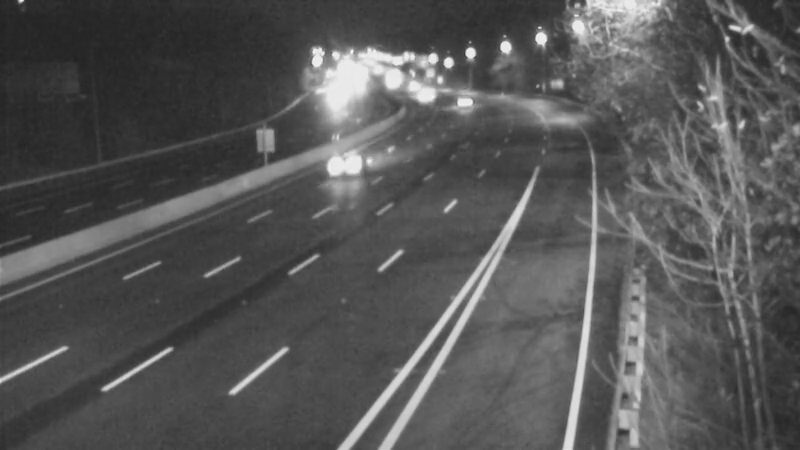vehicle: (305, 128, 385, 208), (403, 72, 453, 122), (435, 77, 485, 127)
